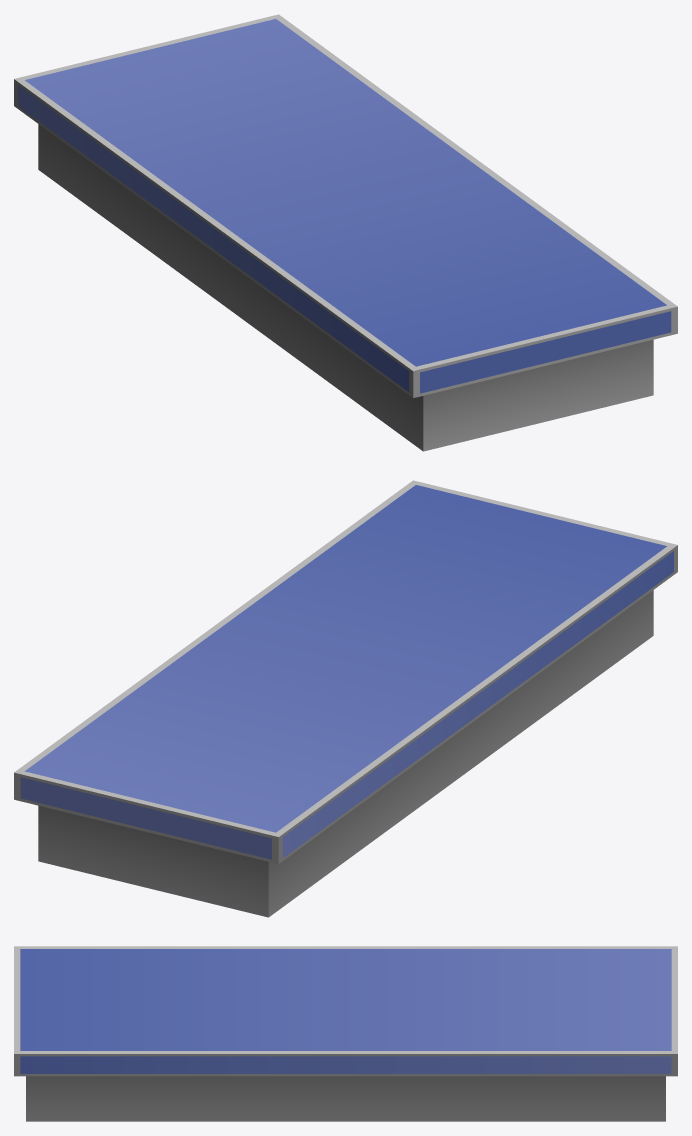
File: TableTopRamp.glb
The picture shows the model from 3 angles, top to bottom: view 1: azimuth 30°, elevation 25°; view 2: azimuth 150°, elevation 25°; view 3: azimuth 270°, elevation 25°; orthographic projection. The views are drawn at different scales.
Parts seen in each view (by area): view 1: TableTopRamp; view 2: TableTopRamp; view 3: TableTopRamp.
Boxes of the visible parts, x1,y1,x2,y2 form: TableTopRamp: [14, 14, 677, 451]; TableTopRamp: [14, 480, 677, 917]; TableTopRamp: [14, 946, 677, 1121].
Bounding box in the file's own units: 1.55 × 0.5019 × 4.04.
